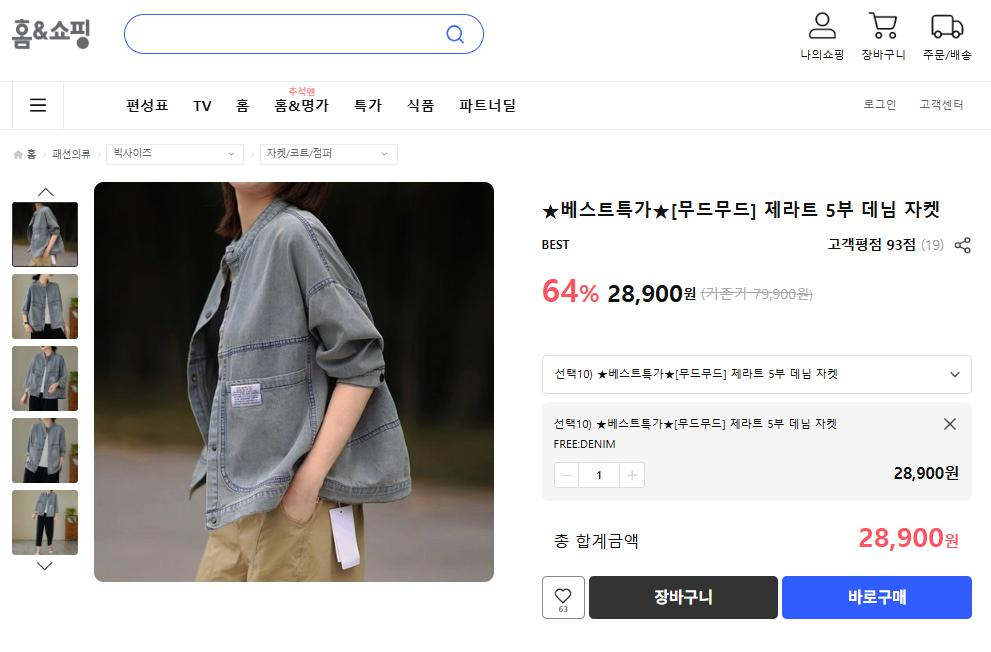button: (590, 575, 785, 622), (787, 576, 975, 622), (12, 344, 81, 411), (13, 272, 79, 340), (10, 201, 79, 266), (13, 419, 79, 484), (12, 489, 77, 555), (794, 11, 853, 64), (918, 14, 978, 62), (861, 12, 909, 60), (555, 463, 647, 487), (270, 85, 337, 117), (544, 576, 587, 621), (456, 91, 523, 119), (919, 88, 972, 112), (125, 91, 174, 116), (402, 96, 442, 123), (350, 86, 384, 115), (23, 90, 53, 119), (859, 96, 905, 114), (953, 230, 977, 260), (191, 96, 223, 118), (940, 412, 963, 434), (233, 98, 261, 115), (33, 558, 62, 572), (948, 362, 967, 382)
checkbox: (106, 143, 245, 167), (261, 142, 400, 162)
input_field: (123, 12, 485, 55)
